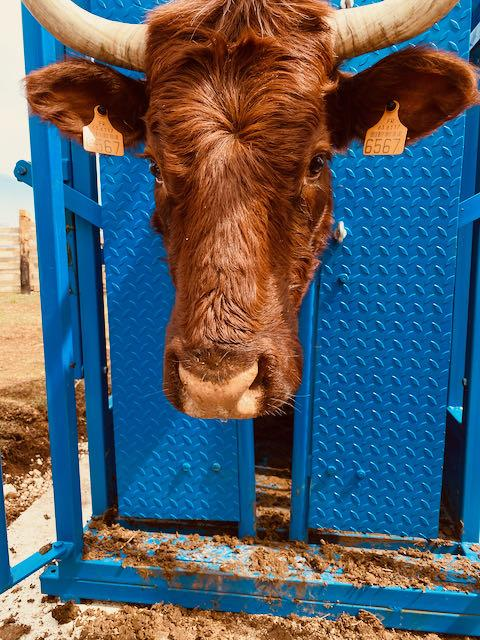muzzles: (159, 348, 289, 433)
